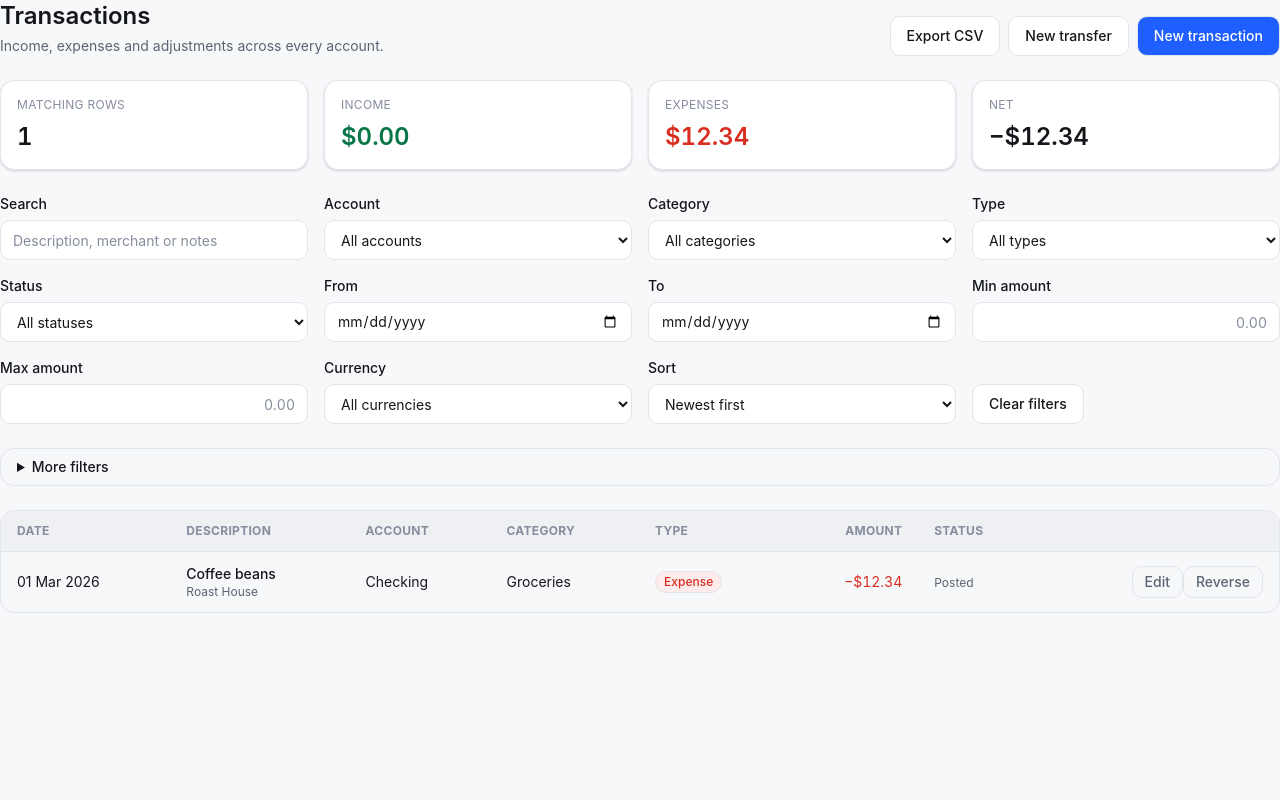
TransactionsPage › opens the transfer modal from the header
Click the button "New transfer": (1069, 36) [1008,16,1129,56]
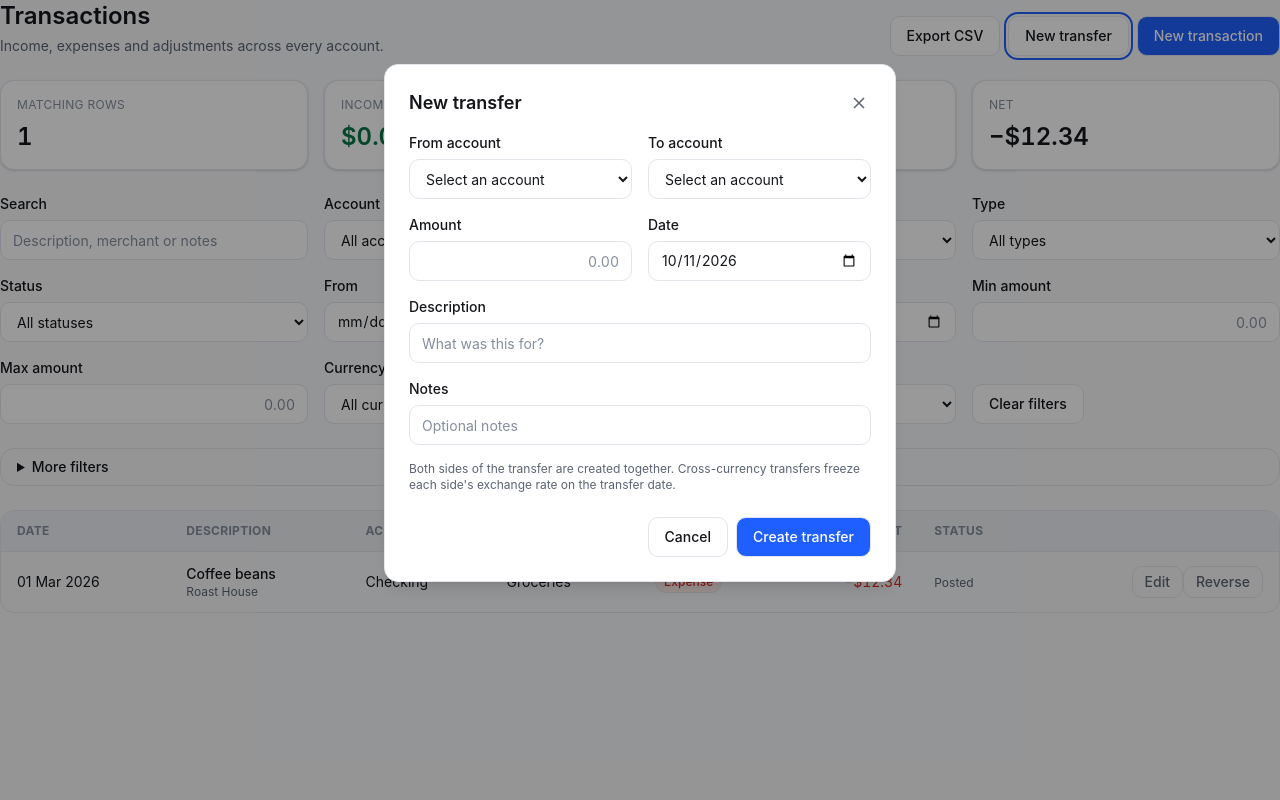
Now the dropdown labelled "From account" is shown, box [409,159,632,199]
Now the dropdown labelled "To account" is shown, box [648,159,871,199]
Now the field labelled "Amount" is shown, box [409,241,632,281]
